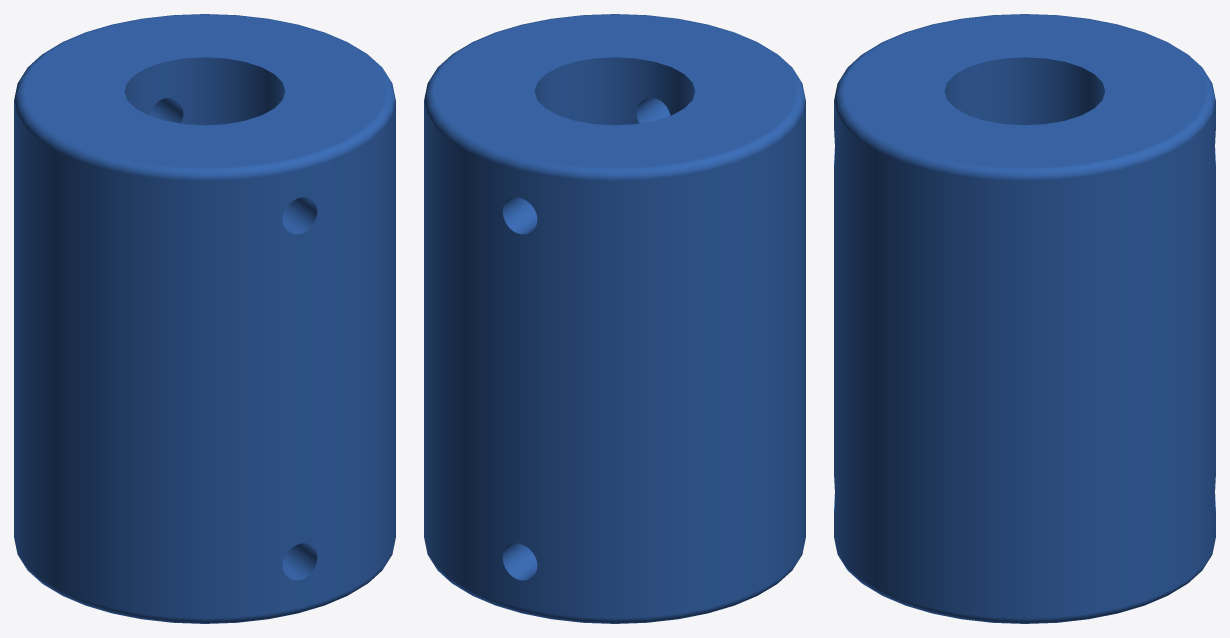
Rendered from coupling.FBX.
The picture shows the model from 3 angles, left to right: view 1: azimuth 30°, elevation 25°; view 2: azimuth 150°, elevation 25°; view 3: azimuth 270°, elevation 25°; orthographic projection.
Parts seen in each view (by area): view 1: stitch_result_stitch all; view 2: stitch_result_stitch all; view 3: stitch_result_stitch all.
Boxes of the visible parts, x1=… form: stitch_result_stitch all: x1=14, y1=14, x2=395, y2=623; stitch_result_stitch all: x1=424, y1=14, x2=805, y2=623; stitch_result_stitch all: x1=834, y1=14, x2=1215, y2=623.
Size of the model in its own units: 0.748 by 0.9843 by 0.748.
